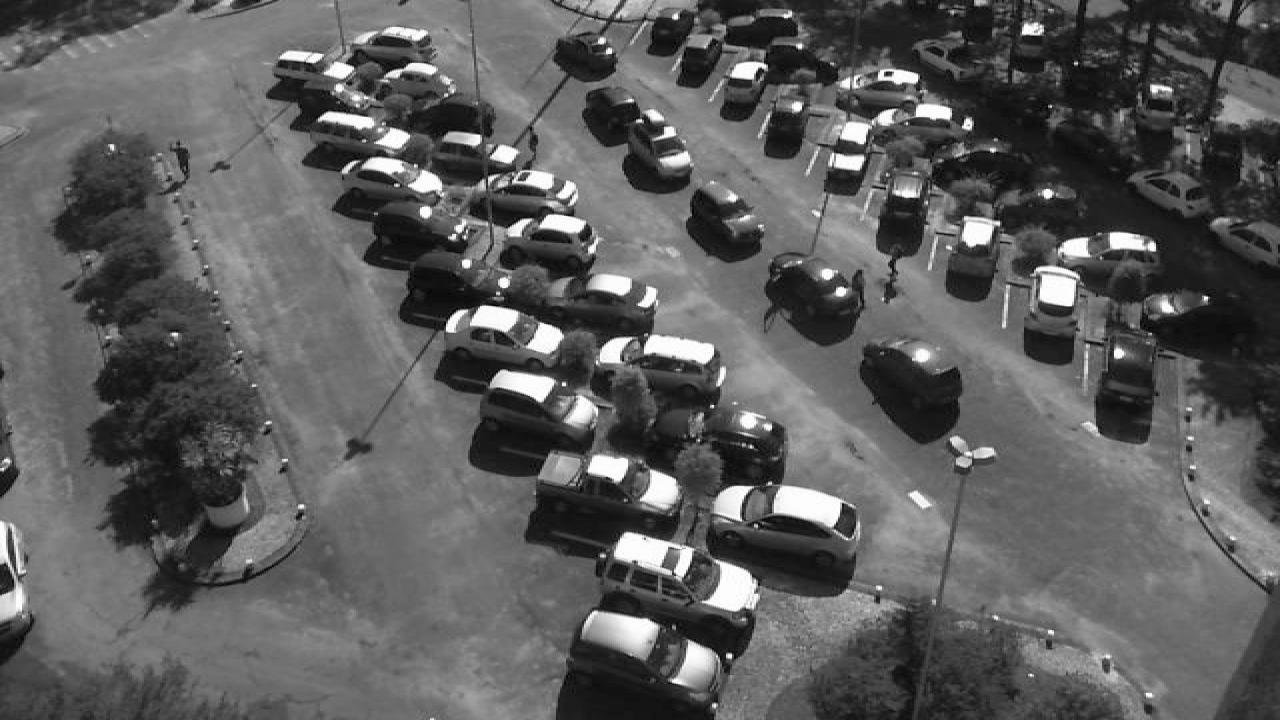Car: (594, 531, 760, 651), (564, 608, 730, 720), (704, 483, 862, 580), (534, 449, 682, 534), (656, 402, 788, 484), (476, 370, 600, 443), (444, 304, 566, 370), (602, 334, 726, 398), (548, 272, 660, 330), (404, 250, 514, 304), (500, 214, 598, 274), (368, 200, 474, 253), (1020, 265, 1086, 341), (340, 156, 446, 202), (1100, 328, 1160, 408), (0, 518, 34, 654), (1052, 230, 1164, 271), (1140, 289, 1242, 333), (312, 110, 412, 154), (874, 103, 976, 146), (1126, 169, 1212, 219), (938, 148, 1038, 190), (990, 184, 1088, 226), (480, 169, 580, 209), (292, 75, 380, 120), (1208, 216, 1280, 269), (430, 130, 524, 170), (948, 216, 1004, 282), (832, 66, 922, 106), (878, 170, 932, 236), (414, 92, 496, 133), (348, 26, 436, 63), (268, 49, 354, 84), (824, 119, 872, 177), (910, 36, 980, 73), (682, 29, 732, 80), (770, 84, 818, 136), (724, 61, 772, 112), (646, 9, 698, 51), (1134, 81, 1178, 126), (1058, 56, 1102, 100)
